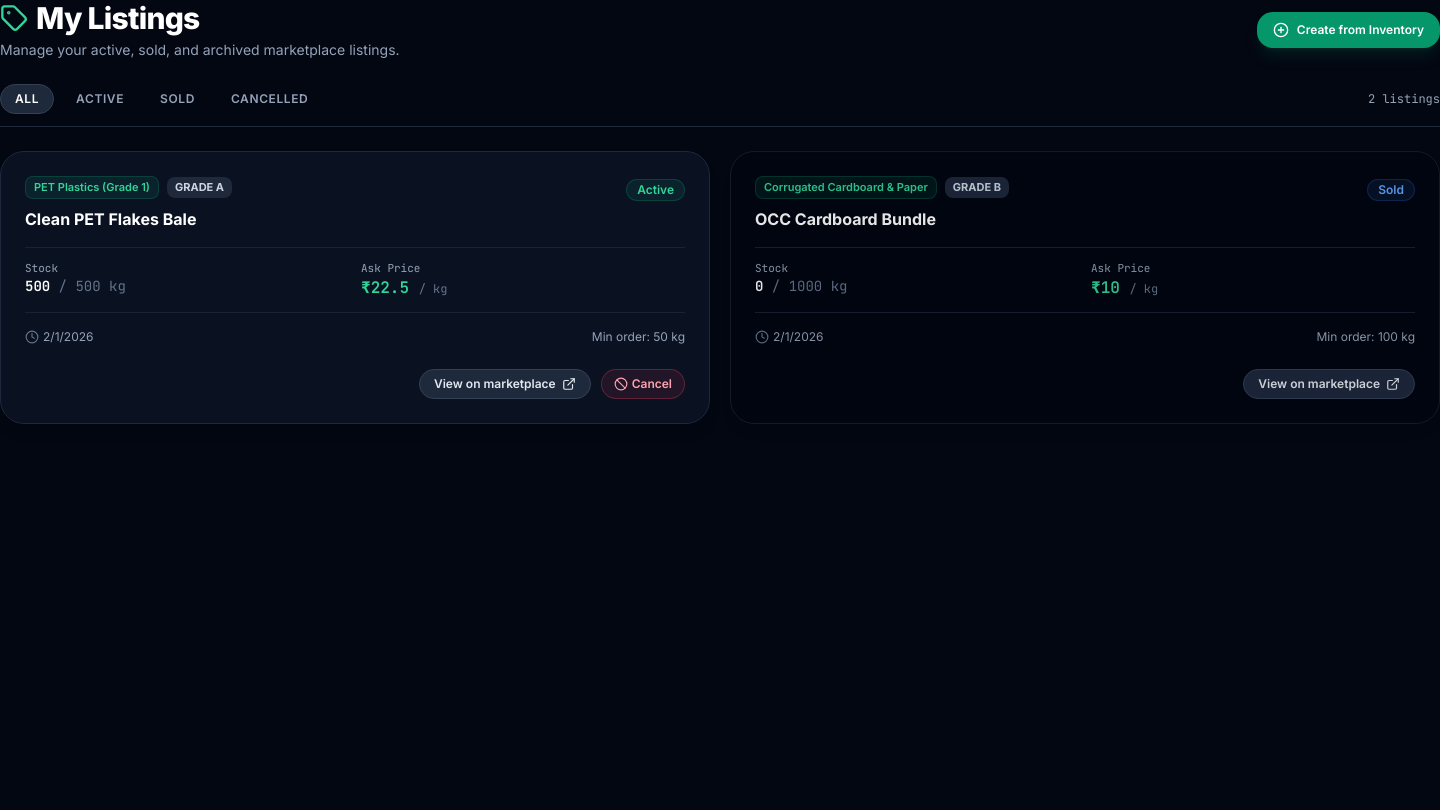
Test: SellerListingsPage › opens cancel confirmation modal when clicking cancel button
Expected: the text "Cancel" is shown, x1=632 y1=376 x2=672 y2=392
Step 1. Click the button "Cancel" → click(643, 384), box x1=601 y1=368 x2=685 y2=398
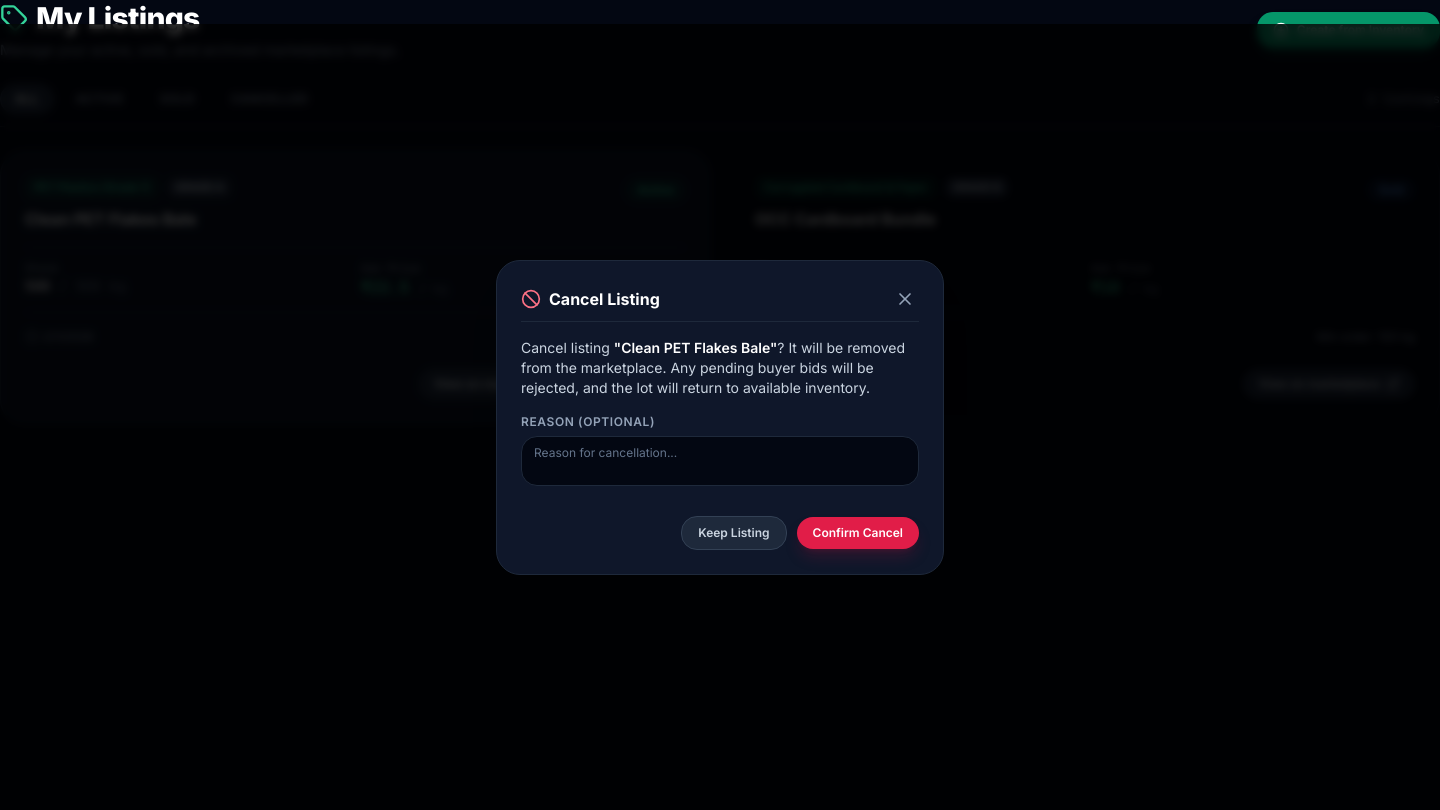
Now the text "Confirm Cancel" is shown, box x1=813 y1=524 x2=903 y2=540
